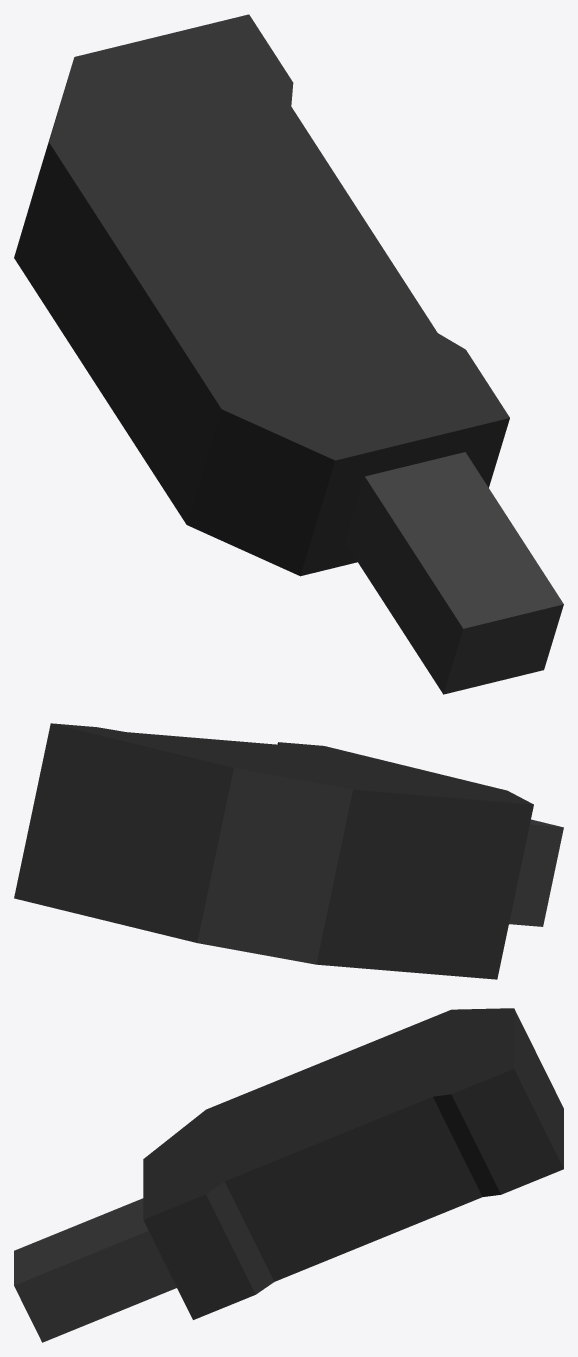
The model's file is AssaultRifle2_03_4.fbx.
3 renders of one model, top to bottom at view 1: azimuth 30°, elevation 25°; view 2: azimuth 150°, elevation 25°; view 3: azimuth 270°, elevation 25°, orthographic. The views are drawn at different scales.
Parts seen in each view (by area): view 1: AssaultRifle2_03_4; view 2: AssaultRifle2_03_4; view 3: AssaultRifle2_03_4.
Part boxes in pixels (box(x1,y1,x2,y2)): AssaultRifle2_03_4: box(14, 14, 563, 694); AssaultRifle2_03_4: box(14, 723, 563, 979); AssaultRifle2_03_4: box(14, 1008, 563, 1342).
Bounding box in the file's own units: 0.0146 × 0.0231 × 0.0401.
